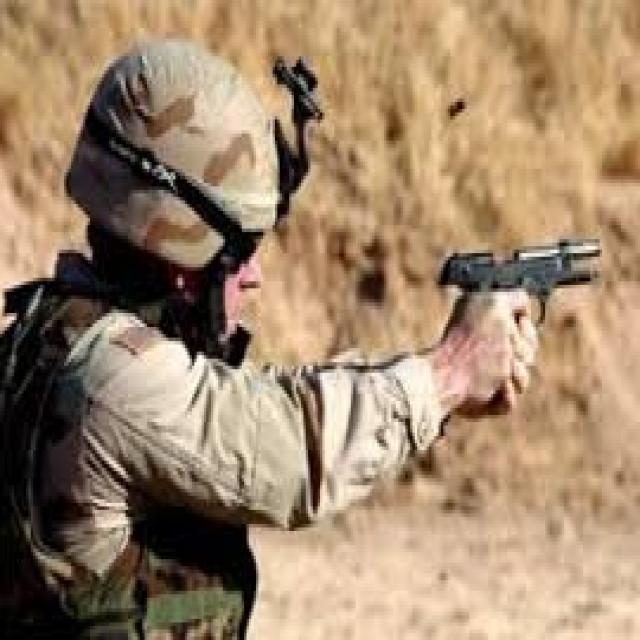gun: (415, 220, 618, 416)
